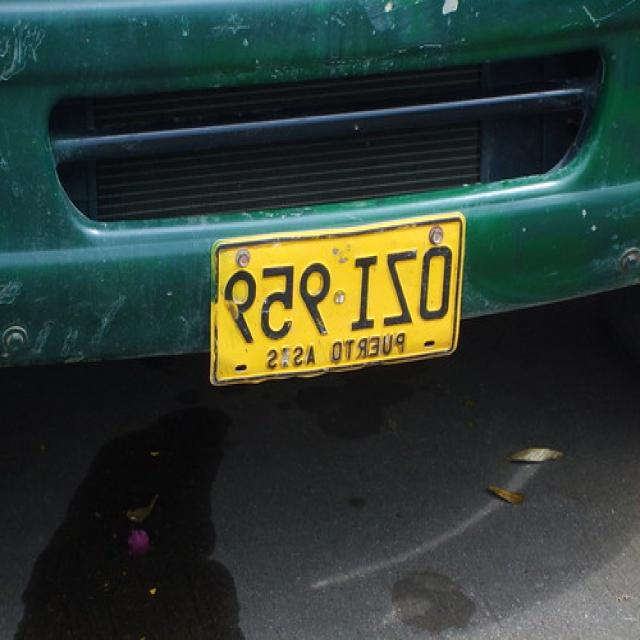placas: (219, 237, 458, 348)
